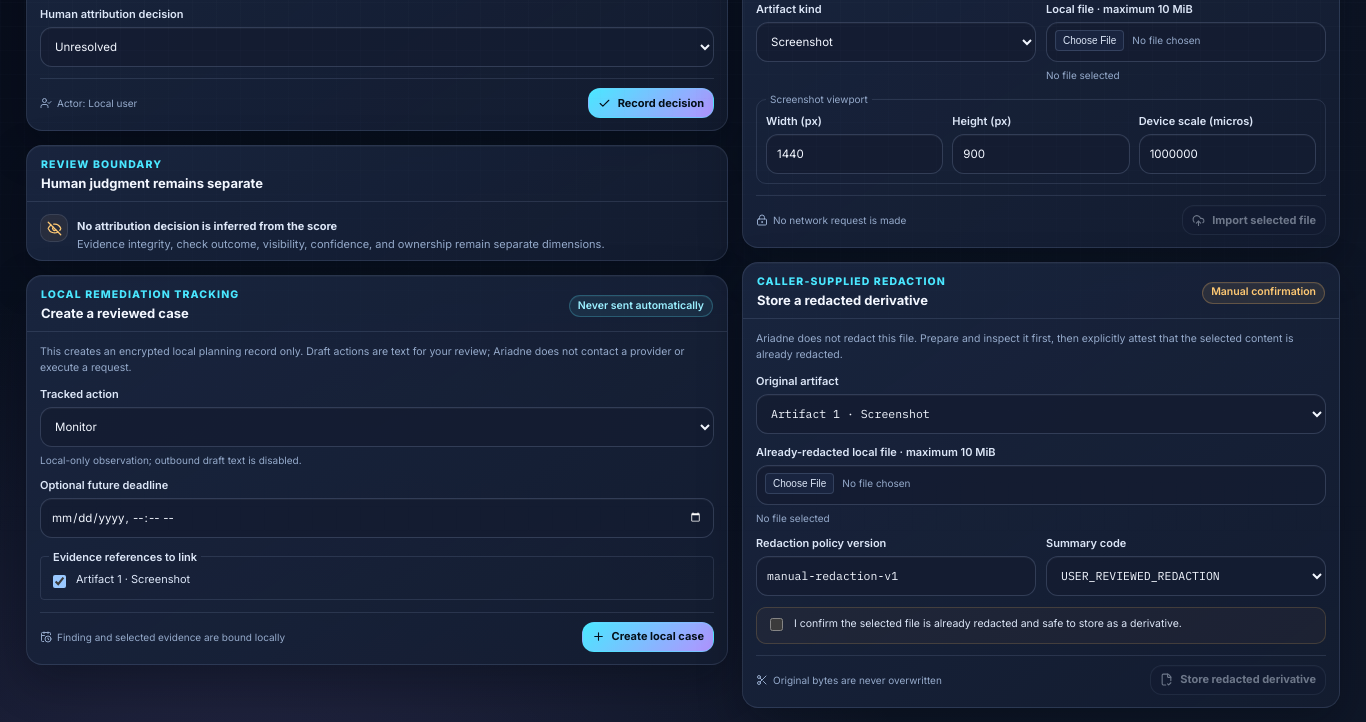
Test: native Phase 5 findings UI › creates a local remediation case from selected finding evidence
The width and height of the screenshot is (1366, 722).
(page scrolled)
Expected: the heading "Create a reviewed case" is shown, [41,305,189,321]
Expected: the checkbox labelled "Artifact 1 · Screenshot" is checked, [53,575,66,588]
Select "Request correction" in the dropdown labelled "Tracked action" at (377, 427), box [40,407,714,447]
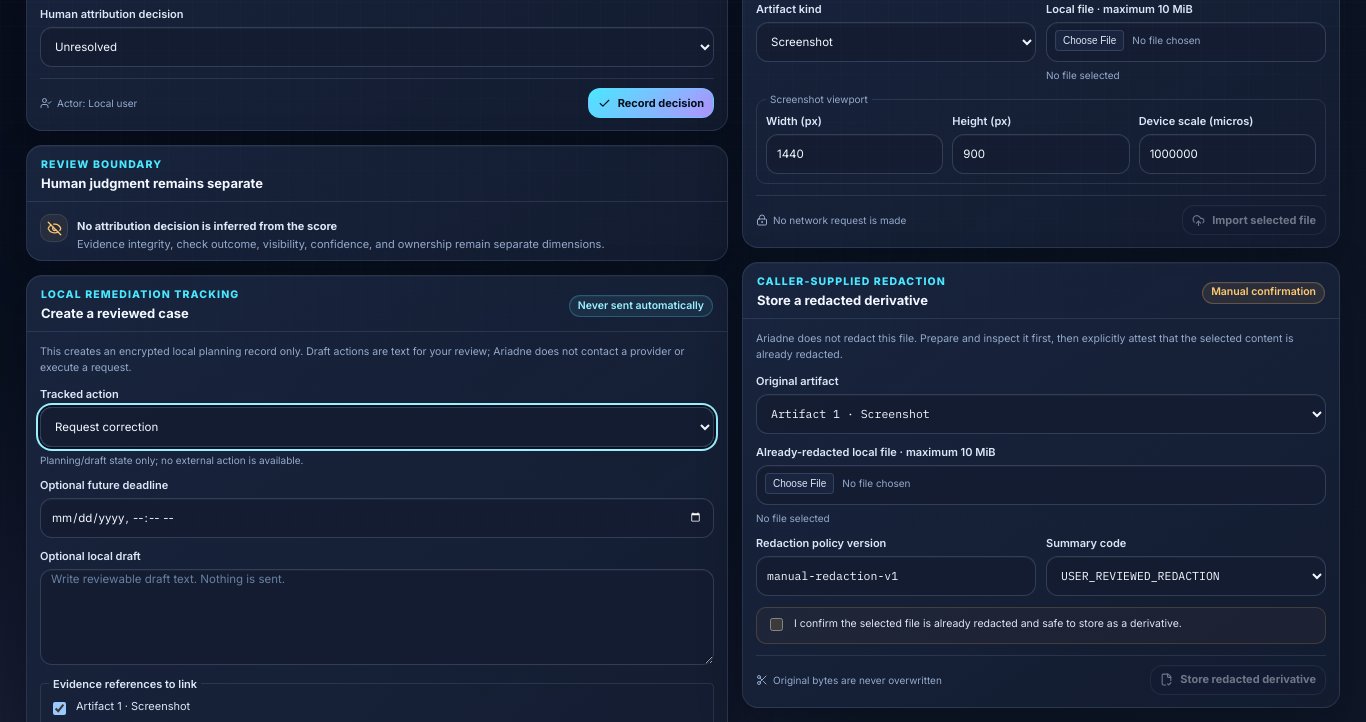
Type "A synthetic correction draft for local review only." into the text box labelled "Optional local draft" at (377, 617), box [40,569,714,665]
(page scrolled)
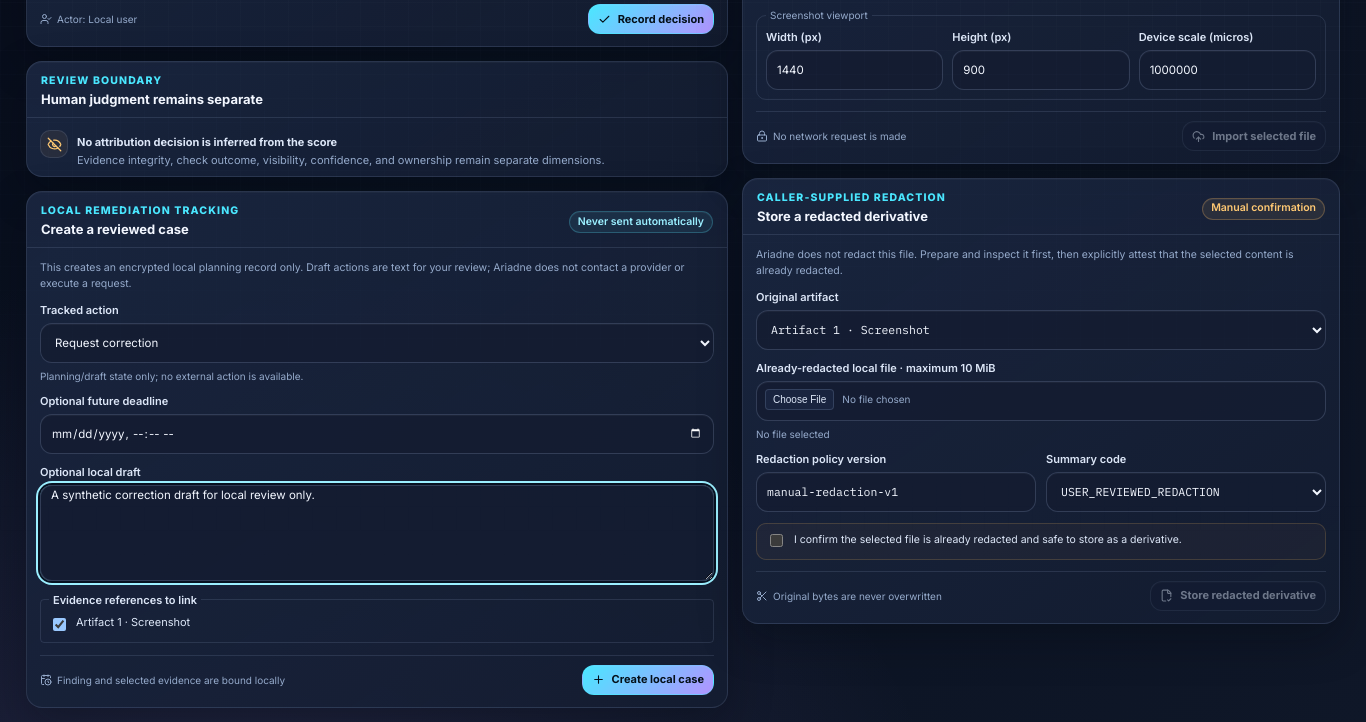
Click the button "Create local case" at (648, 680), box [582,665,714,695]
(page scrolled)
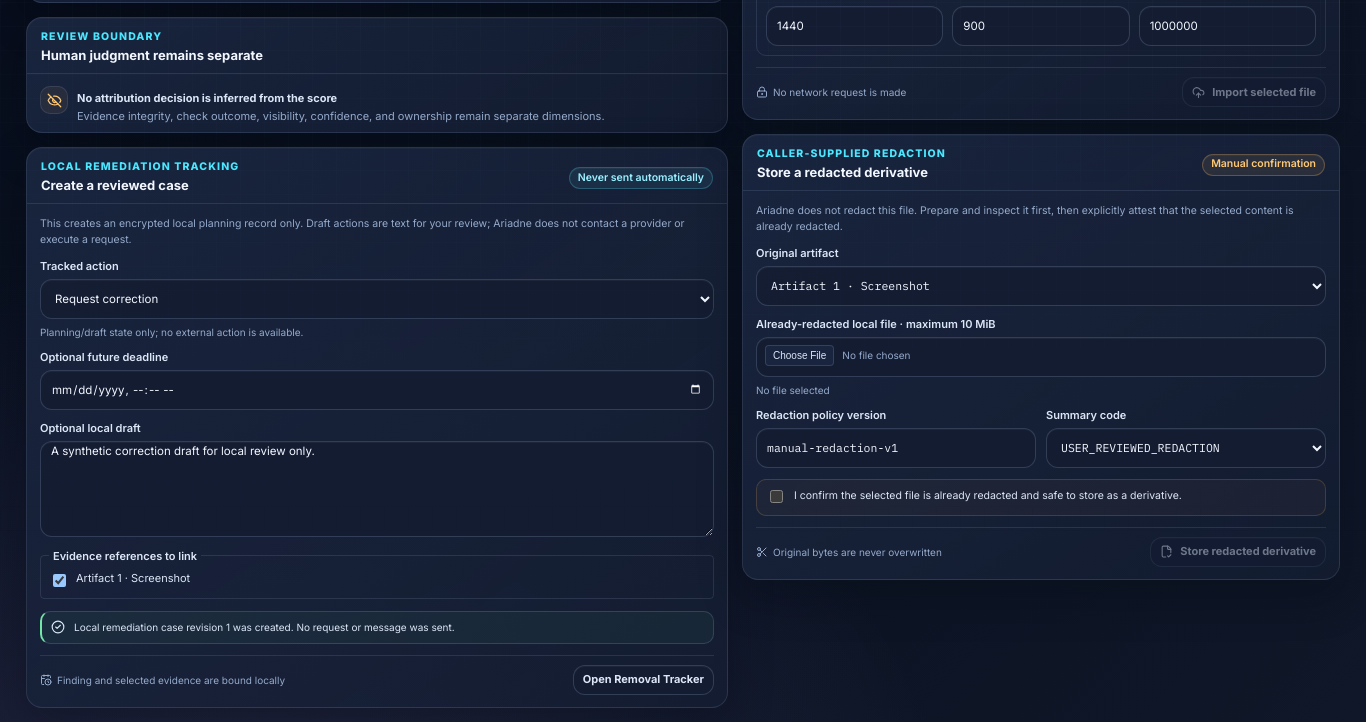
Now the text "Local remediation case revision 1" is shown, box [74,621,455,633]
